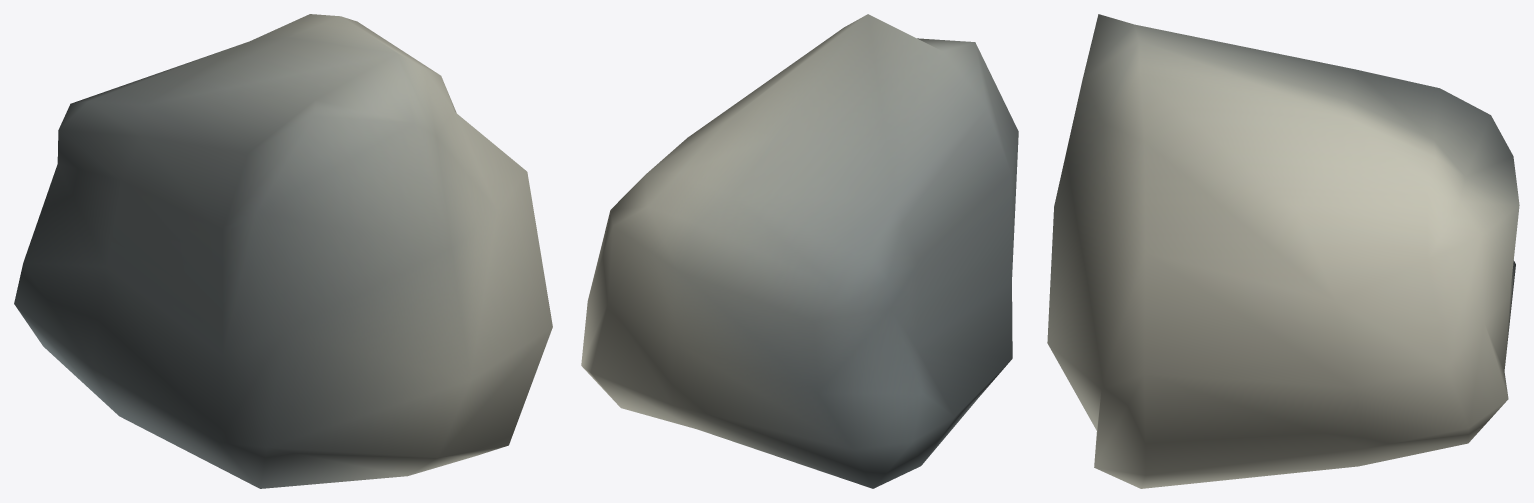
File: Rock03.FBX
3 views of the same model, side by side, from view 1: azimuth 30°, elevation 25°; view 2: azimuth 150°, elevation 25°; view 3: azimuth 270°, elevation 25° (orthographic). The views are drawn at different scales.
Parts seen in each view (by area): view 1: Rock03; view 2: Rock03; view 3: Rock03.
Boxes of the visible parts, x1,y1,x2,y2 form: Rock03: [14, 14, 552, 488]; Rock03: [581, 14, 1018, 488]; Rock03: [1047, 14, 1519, 488].
Size of the model in its own units: 31.4 by 33.54 by 34.4.
